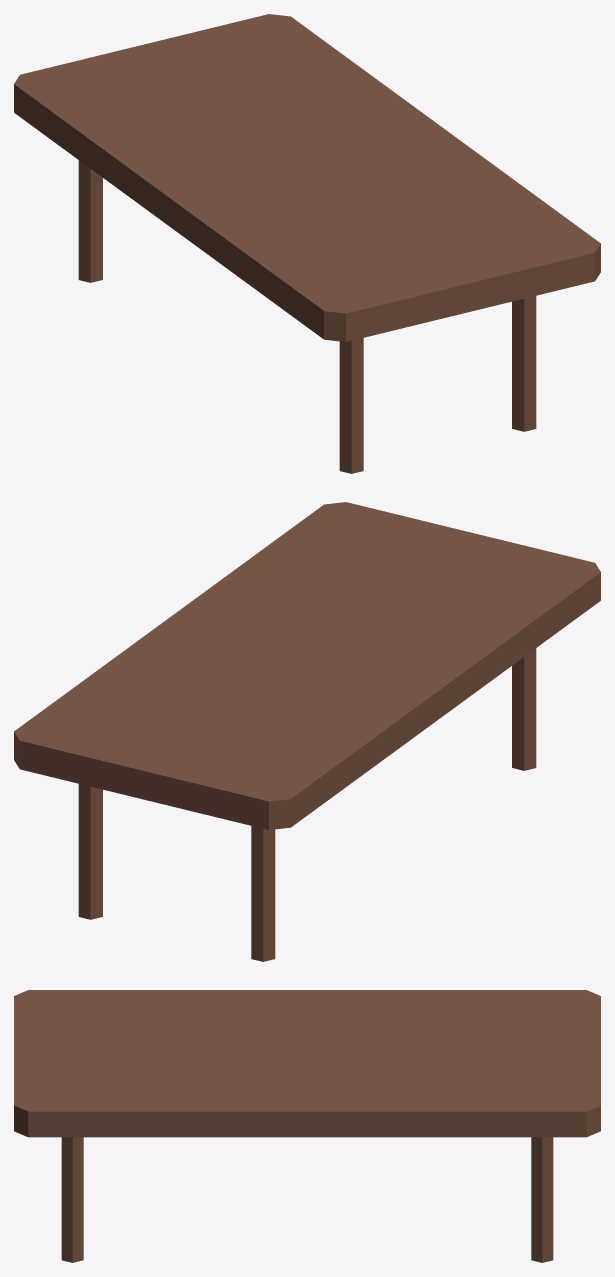
3 renders of one model, top to bottom at view 1: azimuth 30°, elevation 25°; view 2: azimuth 150°, elevation 25°; view 3: azimuth 270°, elevation 25°, orthographic. The views are drawn at different scales.
Visible parts, largest first — view 1: 桌子1; view 2: 桌子1; view 3: 桌子1.
Part boxes in pixels (left/top/right/bottom): 桌子1: left=14, top=14, right=600, bottom=473; 桌子1: left=14, top=502, right=600, bottom=961; 桌子1: left=14, top=990, right=600, bottom=1262.
Size of the model in its own units: 127 by 82.46 by 260.
